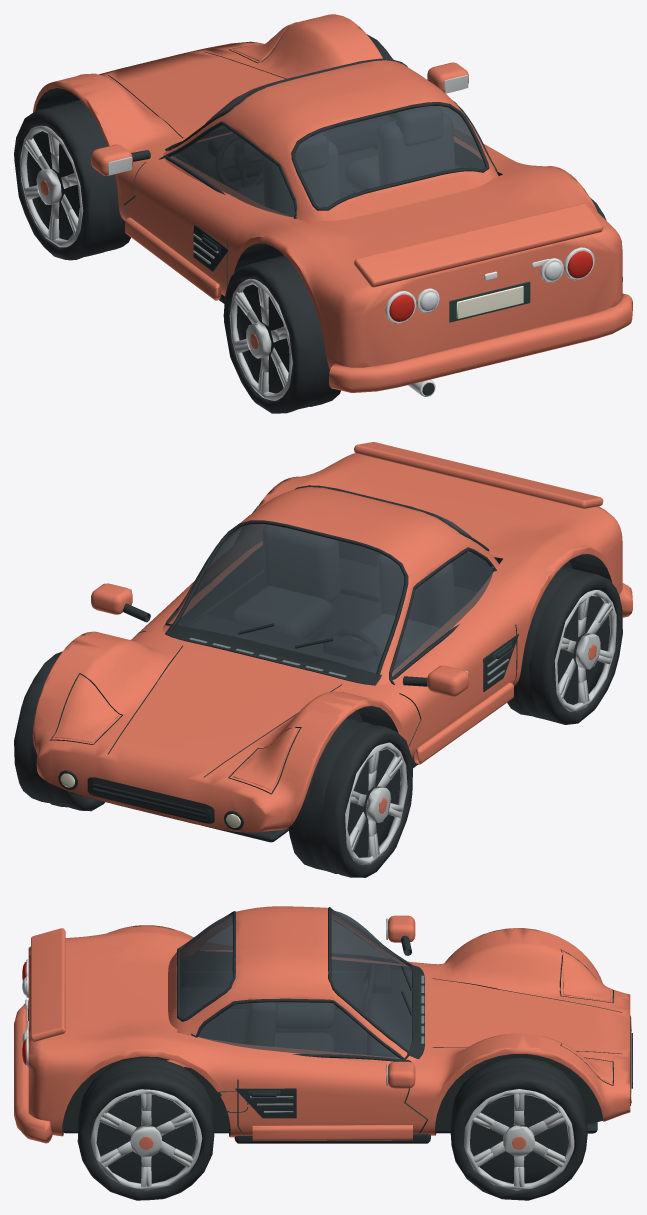
File: midori_lod2.fbx
The picture shows the model from 3 angles, top to bottom: view 1: azimuth 30°, elevation 25°; view 2: azimuth 150°, elevation 25°; view 3: azimuth 270°, elevation 25°; orthographic projection. The views are drawn at different scales.
Visible parts, largest first — view 1: Body, Wheel_FL_Mesh, Wheel_RL_Mesh; view 2: Body, Wheel_FL_Mesh, Wheel_RL_Mesh, Wheel_FR_Mesh; view 3: Body, Wheel_FR_Mesh, Wheel_RR_Mesh.
Boxes of the visible parts, left/top/right/bottom form: Body: left=33, top=14, right=632, bottom=396; Wheel_FL_Mesh: left=14, top=100, right=130, bottom=260; Wheel_RL_Mesh: left=223, top=255, right=340, bottom=413; Body: left=32, top=442, right=632, bottom=842; Wheel_FL_Mesh: left=288, top=718, right=413, bottom=877; Wheel_RL_Mesh: left=507, top=566, right=622, bottom=724; Wheel_FR_Mesh: left=14, top=651, right=104, bottom=811; Body: left=14, top=906, right=632, bottom=1143; Wheel_FR_Mesh: left=450, top=1057, right=587, bottom=1200; Wheel_RR_Mesh: left=77, top=1057, right=214, bottom=1200.
Size of the model in its own units: 231 by 135 by 379.
